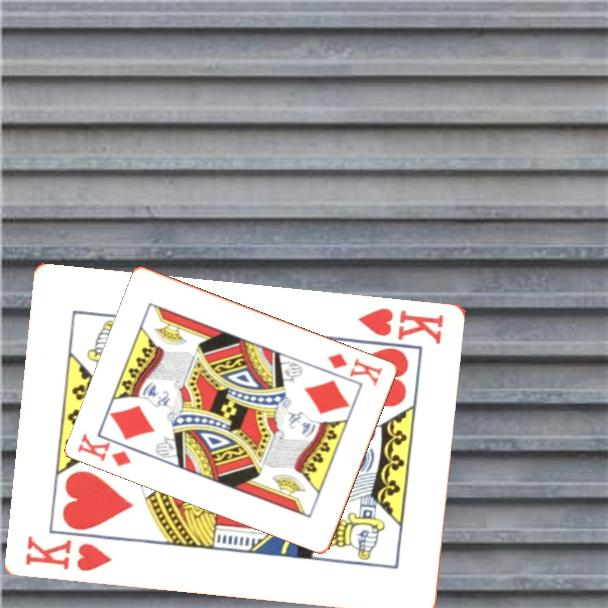d13: (325, 349, 386, 389), (74, 430, 135, 469)
h13: (354, 304, 447, 347), (22, 532, 115, 574)
